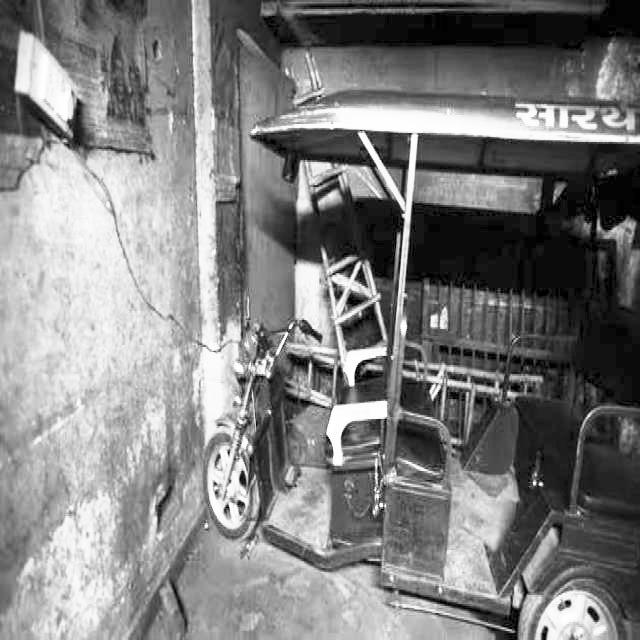Toto: (199, 88, 640, 638)
